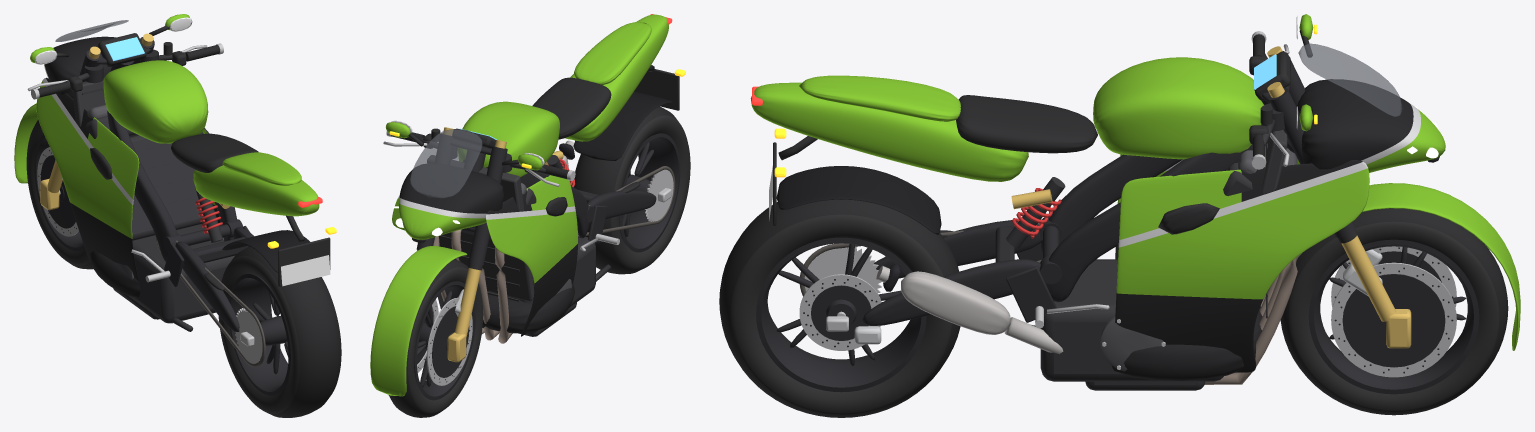
The picture shows the model from 3 angles, left to right: view 1: azimuth 30°, elevation 25°; view 2: azimuth 150°, elevation 25°; view 3: azimuth 270°, elevation 25°; orthographic projection. The views are drawn at different scales.
Visible parts, largest first — view 1: body, wheel_rear, swingarm, wheel_front, steer, fork_lower; view 2: body, wheel_rear, wheel_front, fork_lower, swingarm, steer; view 3: body, wheel_rear, wheel_front, swingarm, fork_lower, steer.
Boxes of the visible parts, left/top/right/bottom form: body: left=30, top=14, right=336, bottom=331; wheel_rear: left=218, top=246, right=341, bottom=417; swingarm: left=156, top=224, right=309, bottom=366; wheel_front: left=26, top=120, right=93, bottom=269; steer: left=27, top=33, right=223, bottom=99; fork_lower: left=14, top=103, right=62, bottom=210; body: left=385, top=14, right=685, bottom=343; wheel_rear: left=574, top=106, right=690, bottom=274; wheel_front: left=388, top=259, right=483, bottom=417; fork_lower: left=370, top=245, right=482, bottom=396; swingarm: left=573, top=91, right=675, bottom=237; steer: left=383, top=127, right=575, bottom=265; body: left=750, top=14, right=1445, bottom=390; wheel_rear: left=719, top=199, right=960, bottom=417; wheel_front: left=1280, top=208, right=1508, bottom=415; swingarm: left=776, top=166, right=1059, bottom=344; fork_lower: left=1337, top=183, right=1520, bottom=350; steer: left=1249, top=31, right=1355, bottom=237.
Size of the model in its own units: 0.78 by 1.04 by 2.1.
